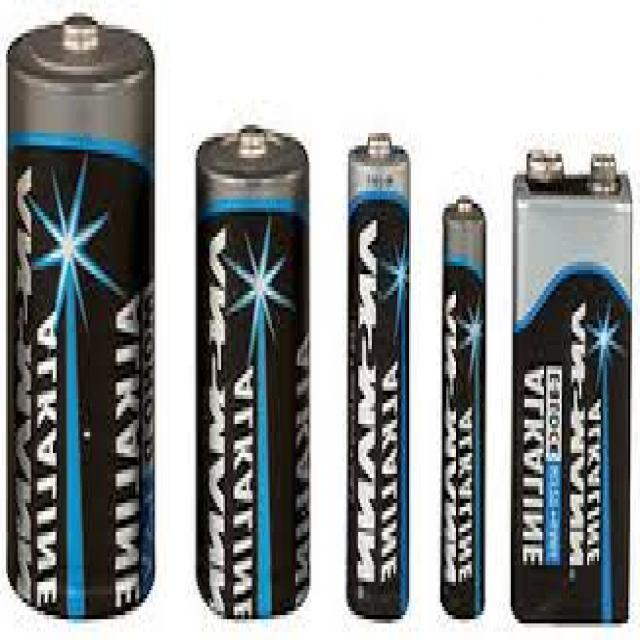battery: (6, 12, 156, 619), (512, 141, 634, 631), (195, 118, 309, 622), (343, 128, 415, 622), (440, 196, 488, 619)
